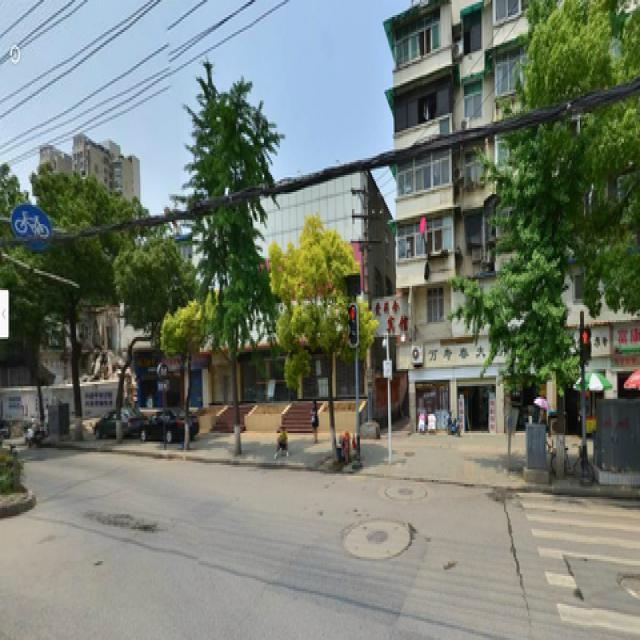cinn: (284, 250, 355, 431)
